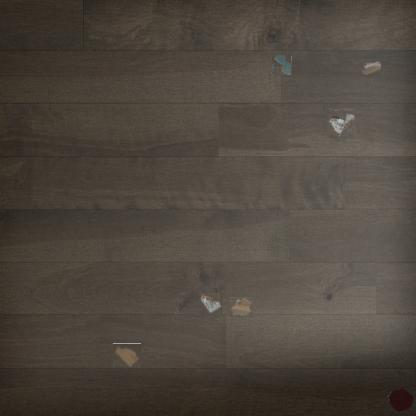dirty: (327, 109, 354, 137), (113, 343, 141, 368), (198, 293, 221, 315), (229, 297, 253, 317), (359, 58, 381, 76)
liquid: (386, 387, 414, 411), (272, 56, 292, 74)
